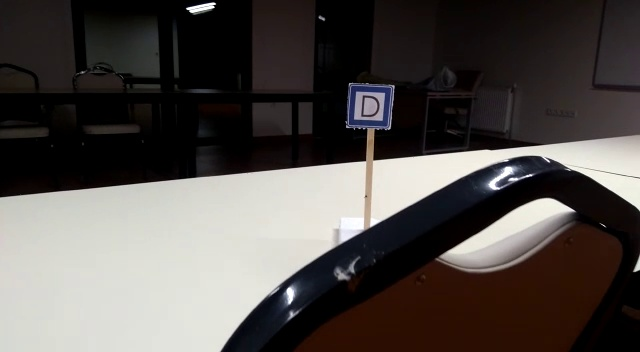durak: (346, 84, 393, 127)
